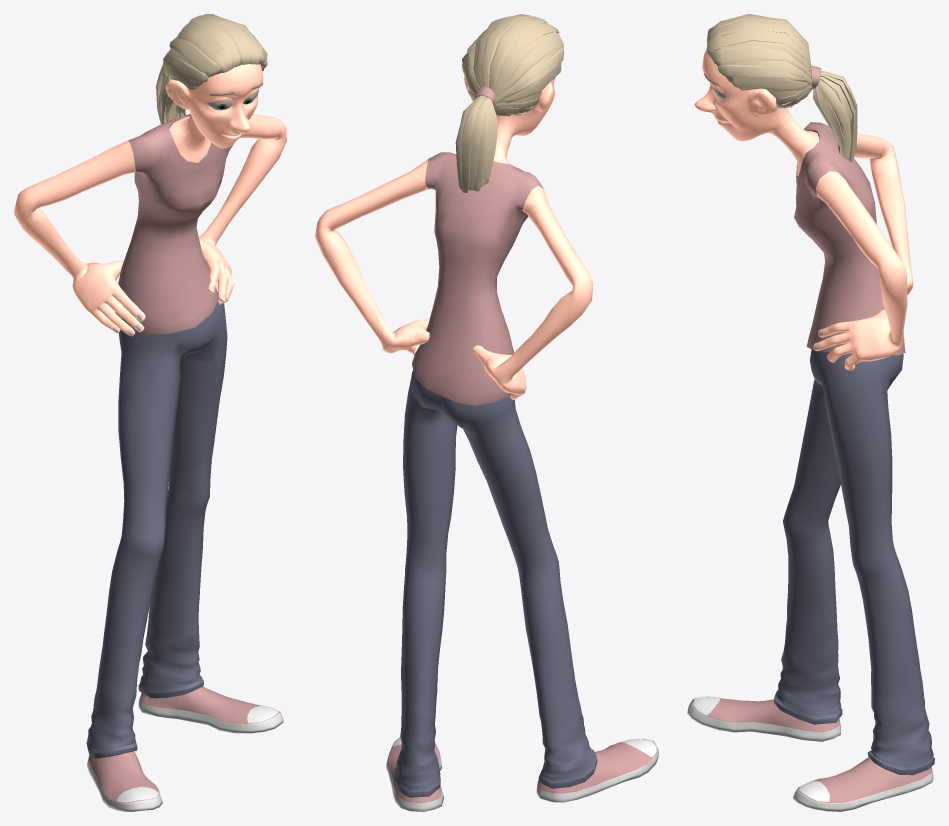
File: female_okayAnswerV2.fbx
3 renders of one model, left to right at view 1: azimuth 30°, elevation 25°; view 2: azimuth 150°, elevation 25°; view 3: azimuth 270°, elevation 25°, orthographic. The views are drawn at different scales.
Visible parts, largest first — view 1: eyeBall1Lf; view 2: eyeBall1Lf; view 3: eyeBall1Lf.
Part boxes in pixels (x1=…): eyeBall1Lf: x1=14, y1=14, x2=286, y2=811; eyeBall1Lf: x1=315, y1=14, x2=658, y2=811; eyeBall1Lf: x1=687, y1=14, x2=934, y2=811.
Size of the model in its own units: 3.22 by 8.37 by 2.5.
